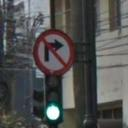NoVirarDireita: (35, 30, 74, 74)
